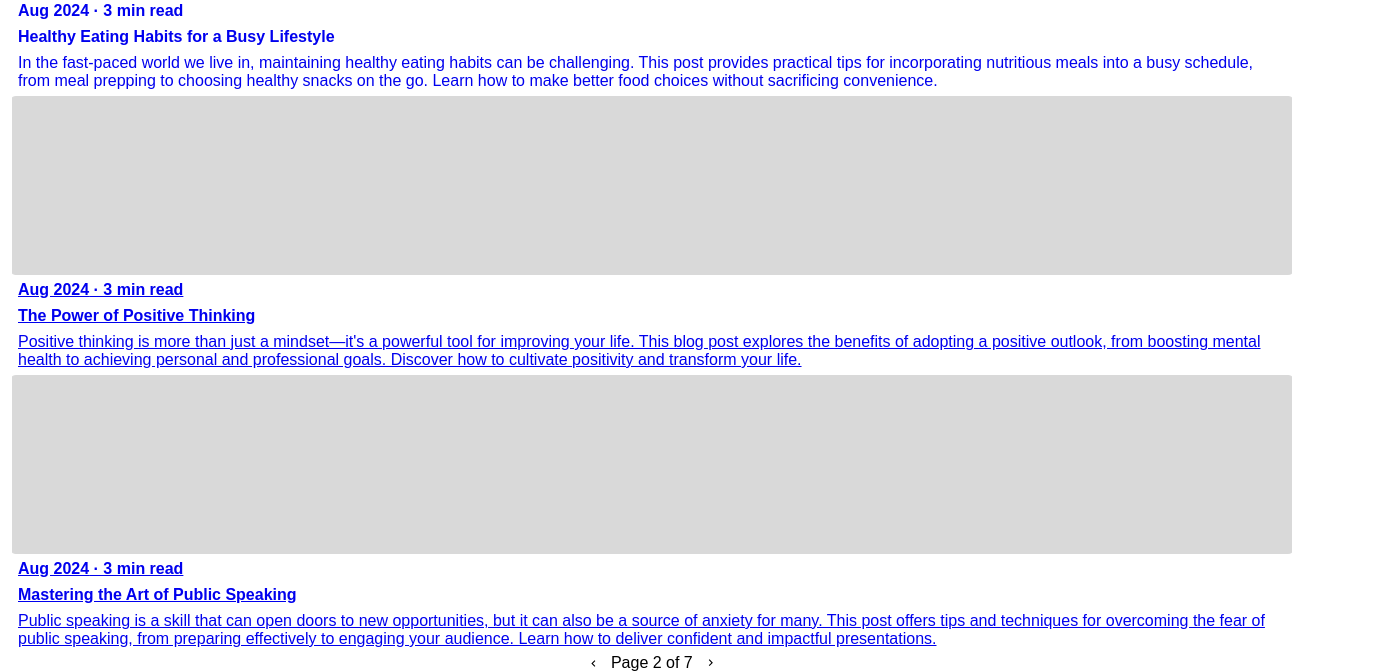
Home Component › navigates to the previous page of posts
(page scrolled)
Click the button named "Previous page" at (593, 663), box [586,656,601,670]
(page scrolled)
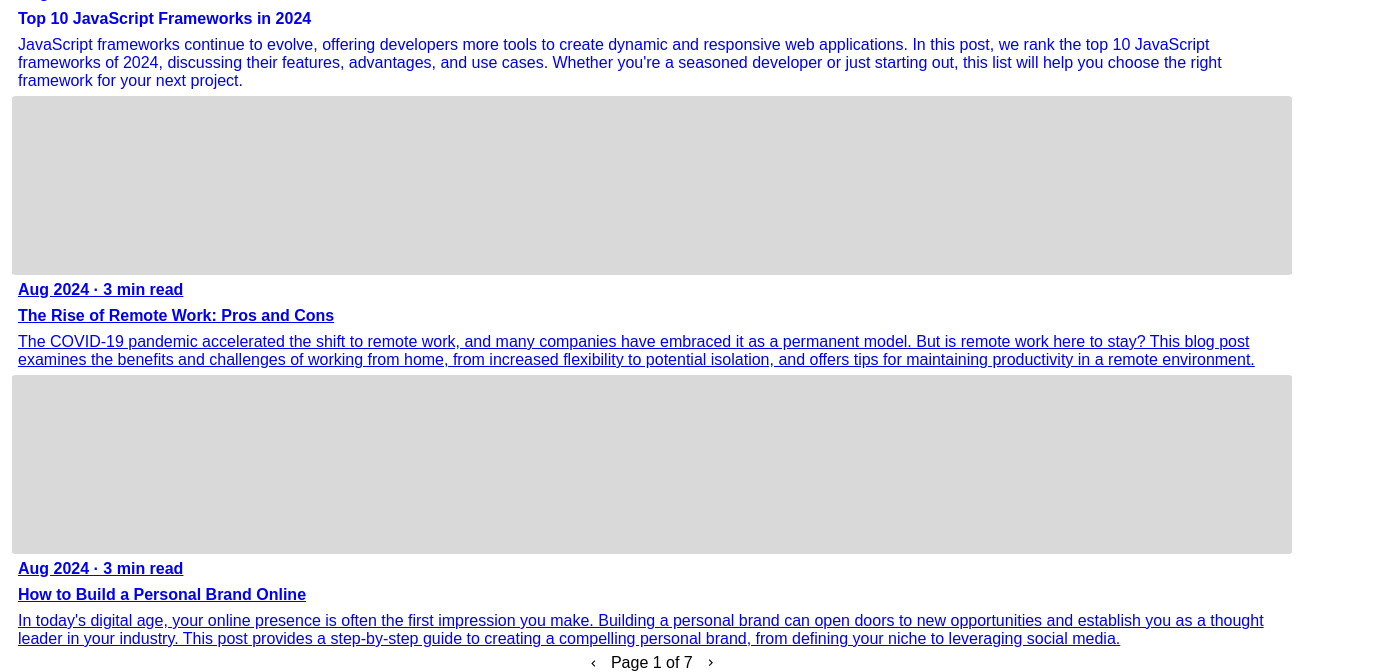
Expected: the text "Page 1 of 7" is shown, [611,654,693,671]
